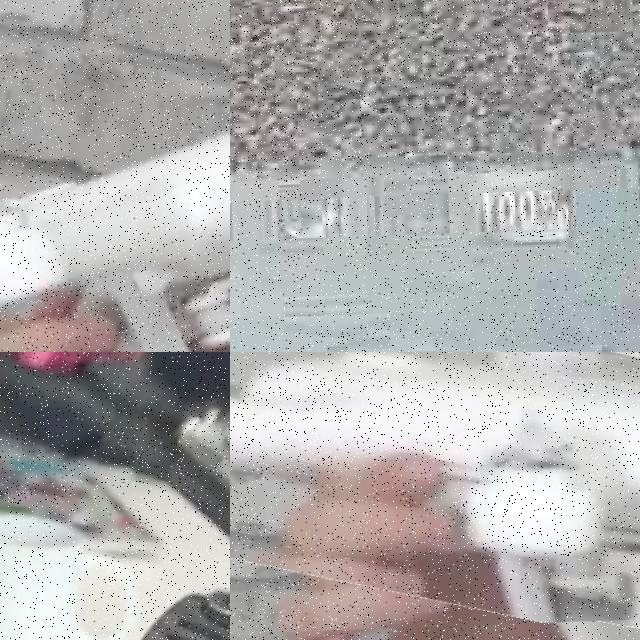drone: (230, 352, 640, 636), (0, 0, 230, 352), (0, 352, 230, 640)
